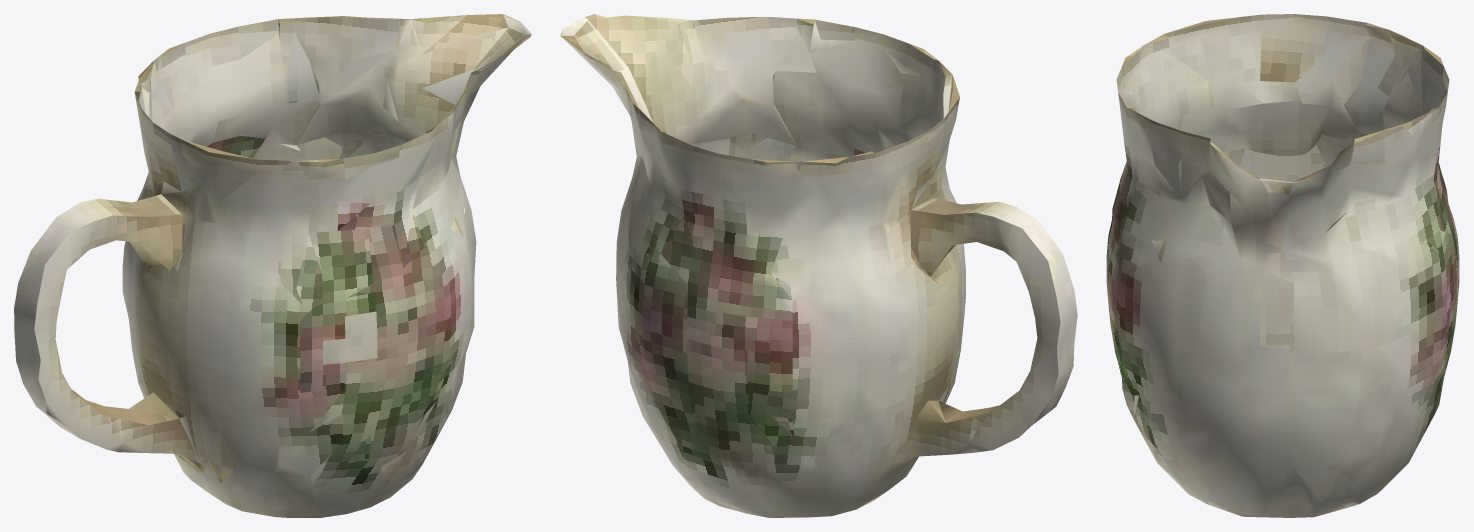
The model's file is b_jug.glb.
The picture shows the model from 3 angles, left to right: view 1: azimuth 30°, elevation 25°; view 2: azimuth 150°, elevation 25°; view 3: azimuth 270°, elevation 25°; orthographic projection.
Visible parts, largest first — view 1: body; view 2: body; view 3: body.
Boxes of the visible parts, <box> form: body: <box>14,14,531,517</box>; body: <box>560,14,1077,517</box>; body: <box>1106,14,1459,517</box>.
Bounding box in the file's own units: 0.2779 × 0.2113 × 0.1666.
1 material, 1 textured.
